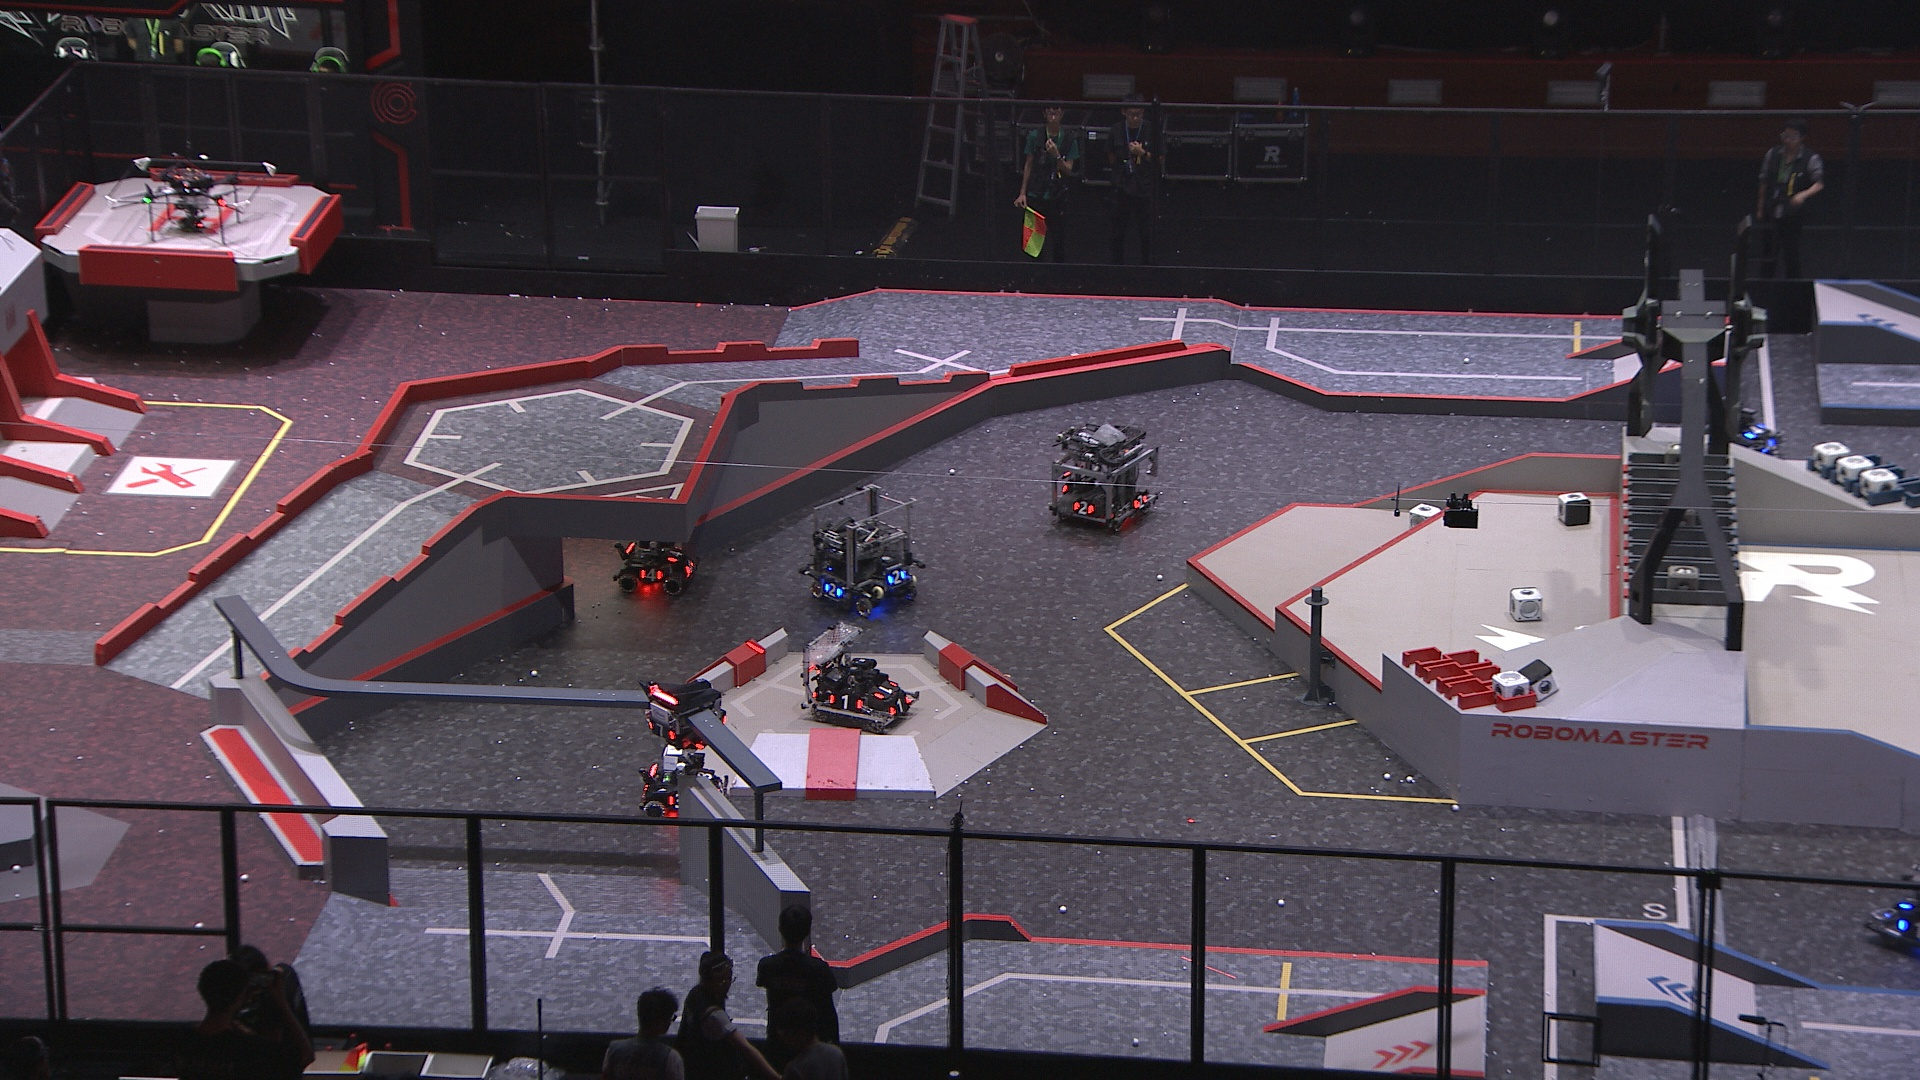armor: (644, 716, 678, 746), (828, 692, 864, 712), (887, 695, 913, 717), (1896, 918, 1920, 940), (1069, 500, 1097, 517), (885, 568, 907, 589), (872, 680, 894, 700), (640, 567, 666, 583), (822, 582, 845, 599), (1743, 422, 1764, 440), (1133, 491, 1149, 512), (695, 769, 717, 783), (666, 793, 684, 808), (713, 781, 731, 796), (683, 559, 698, 578), (666, 547, 680, 562)
car: (799, 485, 920, 617), (798, 622, 916, 740), (1044, 419, 1160, 533), (636, 744, 733, 822), (609, 527, 703, 600), (1687, 396, 1780, 467), (1859, 870, 1920, 963)
watcher: (641, 679, 724, 756)
